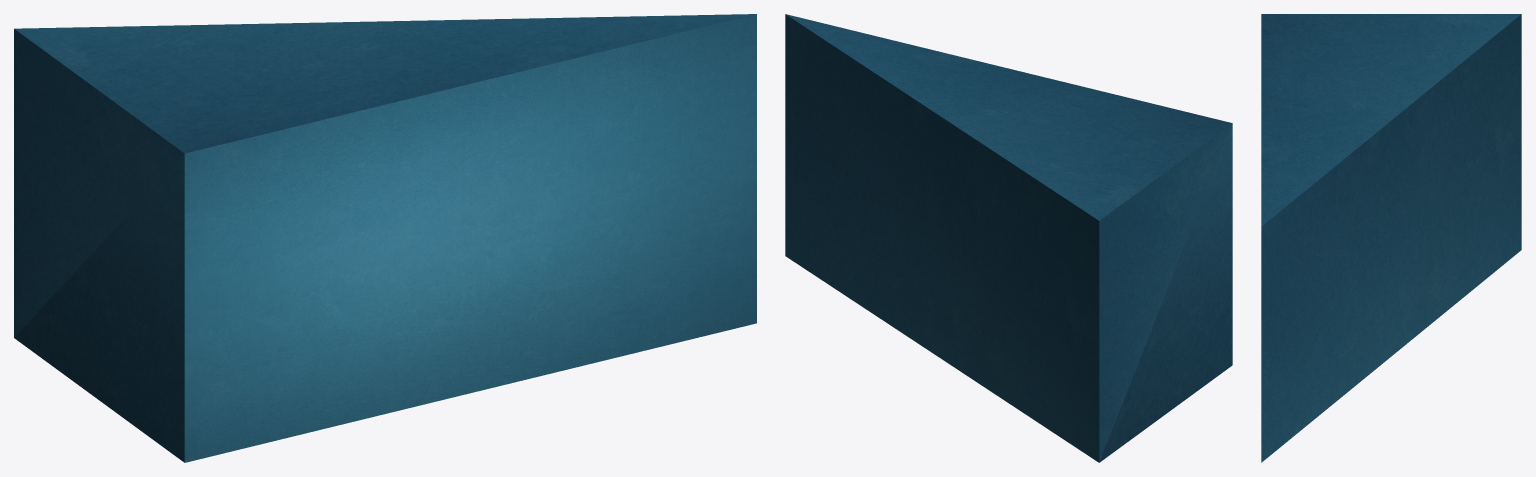
Rendered from triangle_paddle.obj.
3 views of the same model, side by side, from view 1: azimuth 30°, elevation 25°; view 2: azimuth 150°, elevation 25°; view 3: azimuth 270°, elevation 25° (orthographic). The views are drawn at different scales.
Parts seen in each view (by area): view 1: Cube; view 2: Cube; view 3: Cube.
Part boxes in pixels (x1,y1,x2,y2): Cube: (14, 14, 756, 462); Cube: (785, 14, 1232, 462); Cube: (1261, 14, 1521, 462).
Bounding box in the file's own units: 3.87 × 2 × 2.
